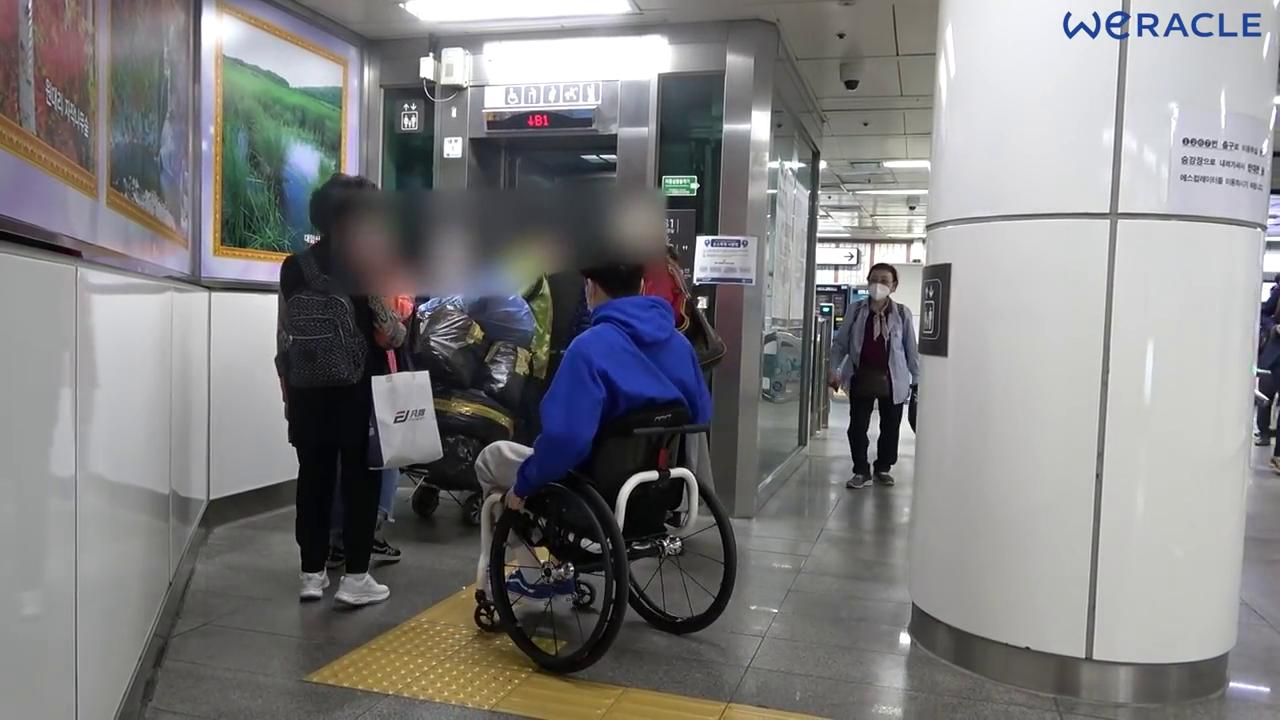wheelchair: (476, 258, 736, 672)
